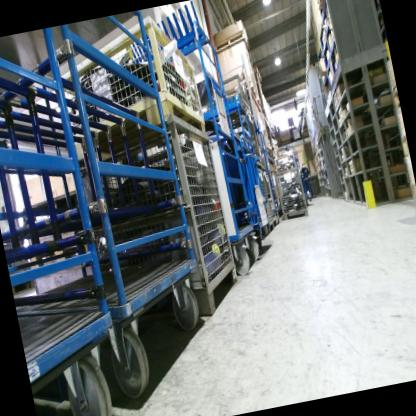pallet: (221, 79, 261, 113), (212, 31, 250, 55)
stillage: (63, 108, 247, 344), (48, 9, 210, 163), (205, 107, 261, 172), (273, 164, 312, 222), (251, 160, 274, 234), (218, 73, 251, 117), (262, 166, 280, 232), (272, 152, 300, 172)
